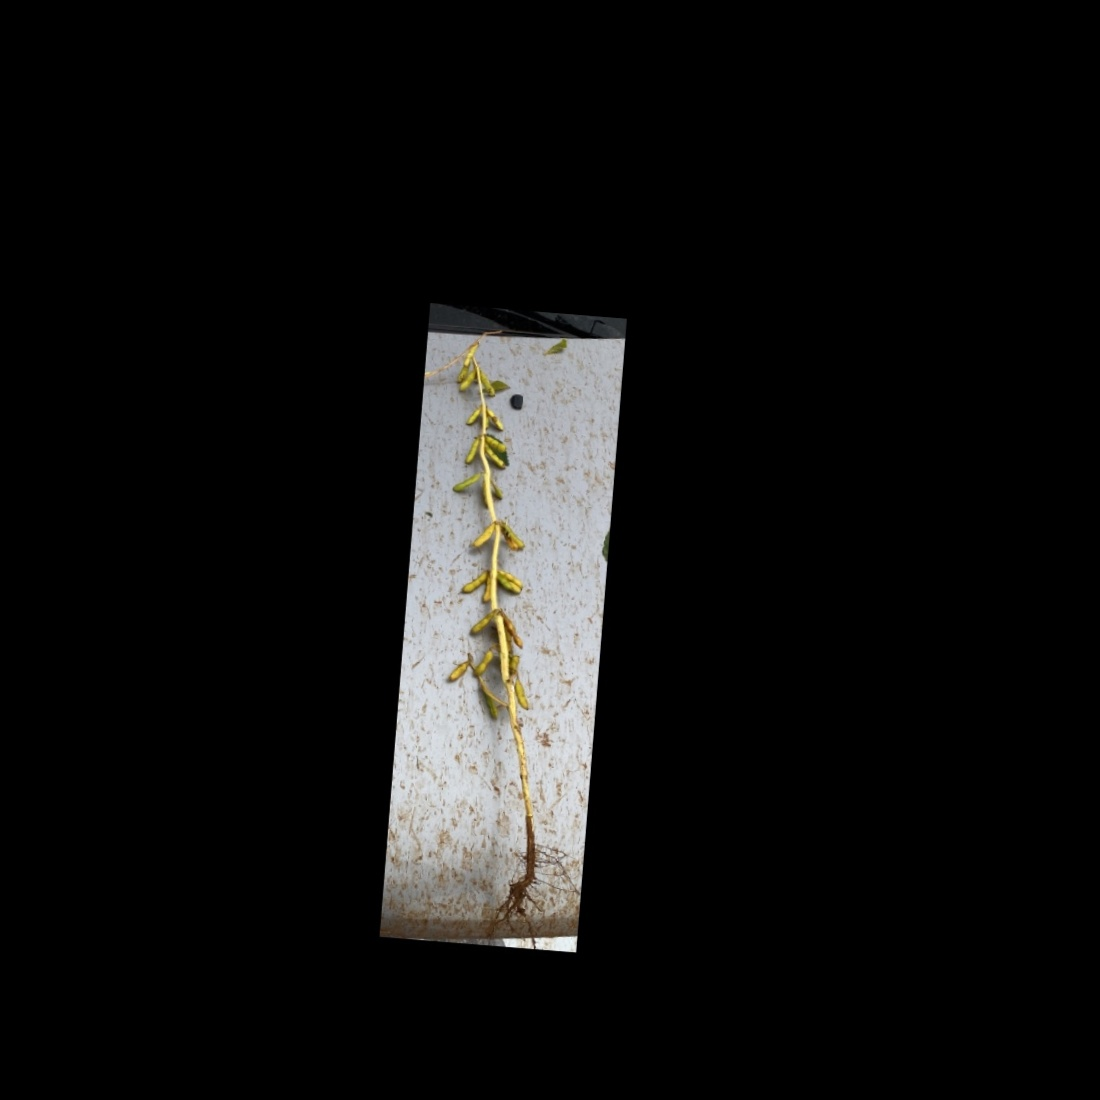pod: (447, 469, 482, 498), (453, 566, 488, 594), (470, 517, 497, 551), (465, 609, 497, 638), (504, 613, 527, 650), (512, 677, 535, 711), (472, 646, 496, 680), (443, 658, 472, 684), (480, 691, 502, 723), (461, 435, 482, 466), (487, 477, 510, 504), (458, 367, 477, 397), (478, 370, 498, 399), (463, 406, 482, 427)
soy: (392, 334, 606, 932)
